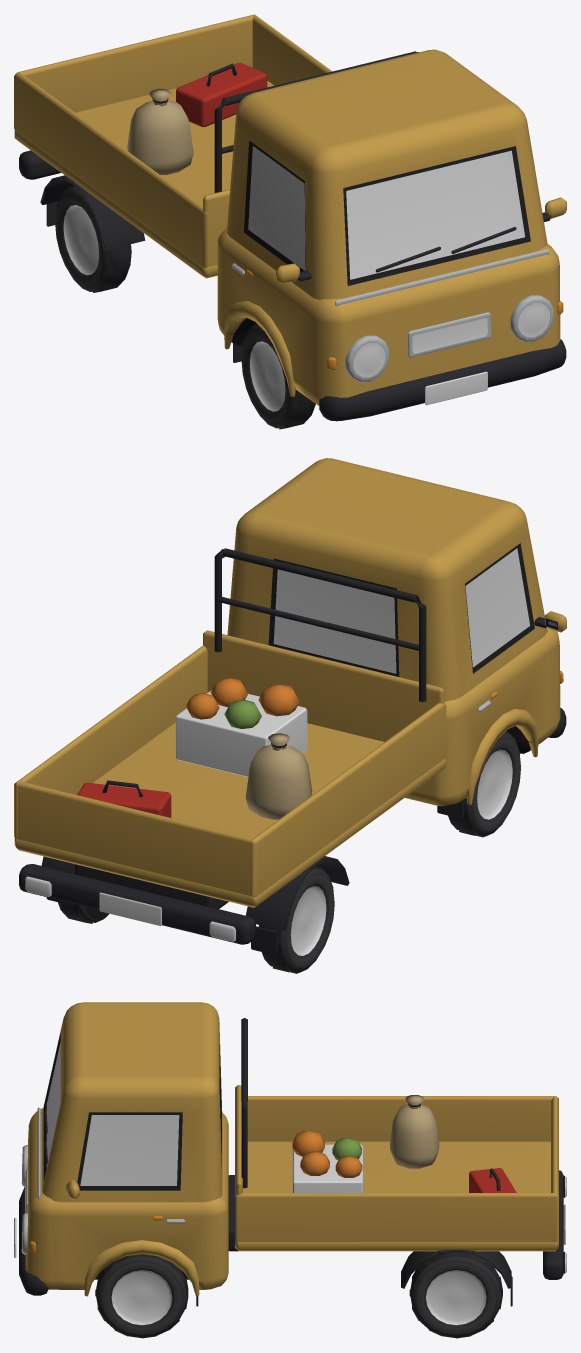
The model's file is Pickup.fbx.
3 views of the same model, one above another, from view 1: azimuth 30°, elevation 25°; view 2: azimuth 150°, elevation 25°; view 3: azimuth 270°, elevation 25° (orthographic). The views are drawn at different scales.
Visible parts, largest first — view 1: Body, Wheel.RR, Wheel.FR; view 2: Body, Wheel.RR, Wheel.FR, Wheel.RL; view 3: Body, Wheel.RL, Wheel.FL.
Boxes of the visible parts, left/top/right/bottom form: Body: left=14, top=14, right=566, bottom=421; Wheel.RR: left=55, top=186, right=131, bottom=292; Wheel.FR: left=241, top=323, right=315, bottom=429; Body: left=14, top=458, right=566, bottom=955; Wheel.RR: left=258, top=866, right=334, bottom=973; Wheel.FR: left=448, top=731, right=520, bottom=837; Wheel.RL: left=58, top=902, right=109, bottom=923; Body: left=14, top=1002, right=566, bottom=1306; Wheel.RL: left=409, top=1252, right=502, bottom=1338; Wheel.FL: left=95, top=1254, right=188, bottom=1338.
Size of the model in its own units: 1.76 by 1.74 by 3.45.
